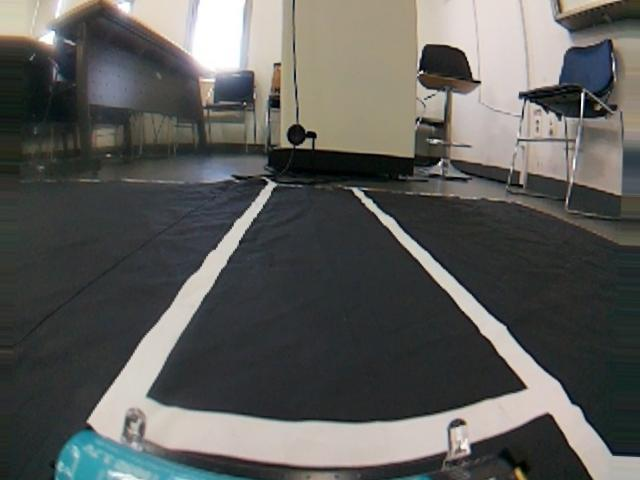straight: (20, 232, 640, 478)
